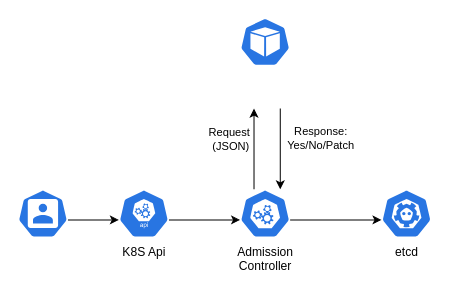
Image size: 449x292. Some labels were removed from this diagram. The centre of each missing label's shape, as x and y in pixels:
Client: pixel 42 213
Webhook Server Implementation: pixel 264 41
